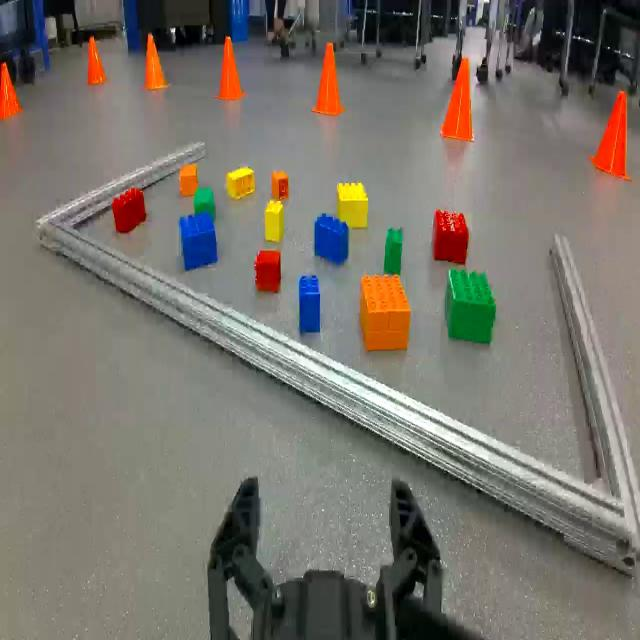block: (338, 182, 368, 227), (226, 166, 255, 198), (264, 198, 284, 240)
blue: (179, 211, 218, 269), (315, 212, 348, 263), (299, 275, 320, 331)
cone: (591, 90, 633, 179), (442, 56, 474, 139), (312, 41, 345, 113), (215, 35, 246, 97), (144, 31, 168, 88), (0, 61, 22, 118), (87, 35, 106, 83)
green: (446, 269, 497, 343), (384, 228, 403, 274), (194, 188, 215, 218)
metal barrier: (35, 139, 640, 580)
orange: (360, 274, 411, 350), (272, 170, 288, 199)
red goal: (432, 208, 470, 263), (112, 186, 145, 232), (254, 252, 281, 291), (180, 163, 198, 195)
